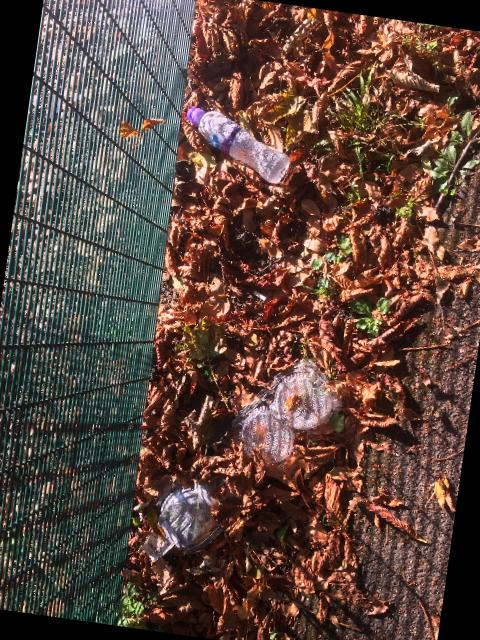plastic: (186, 106, 289, 182)
